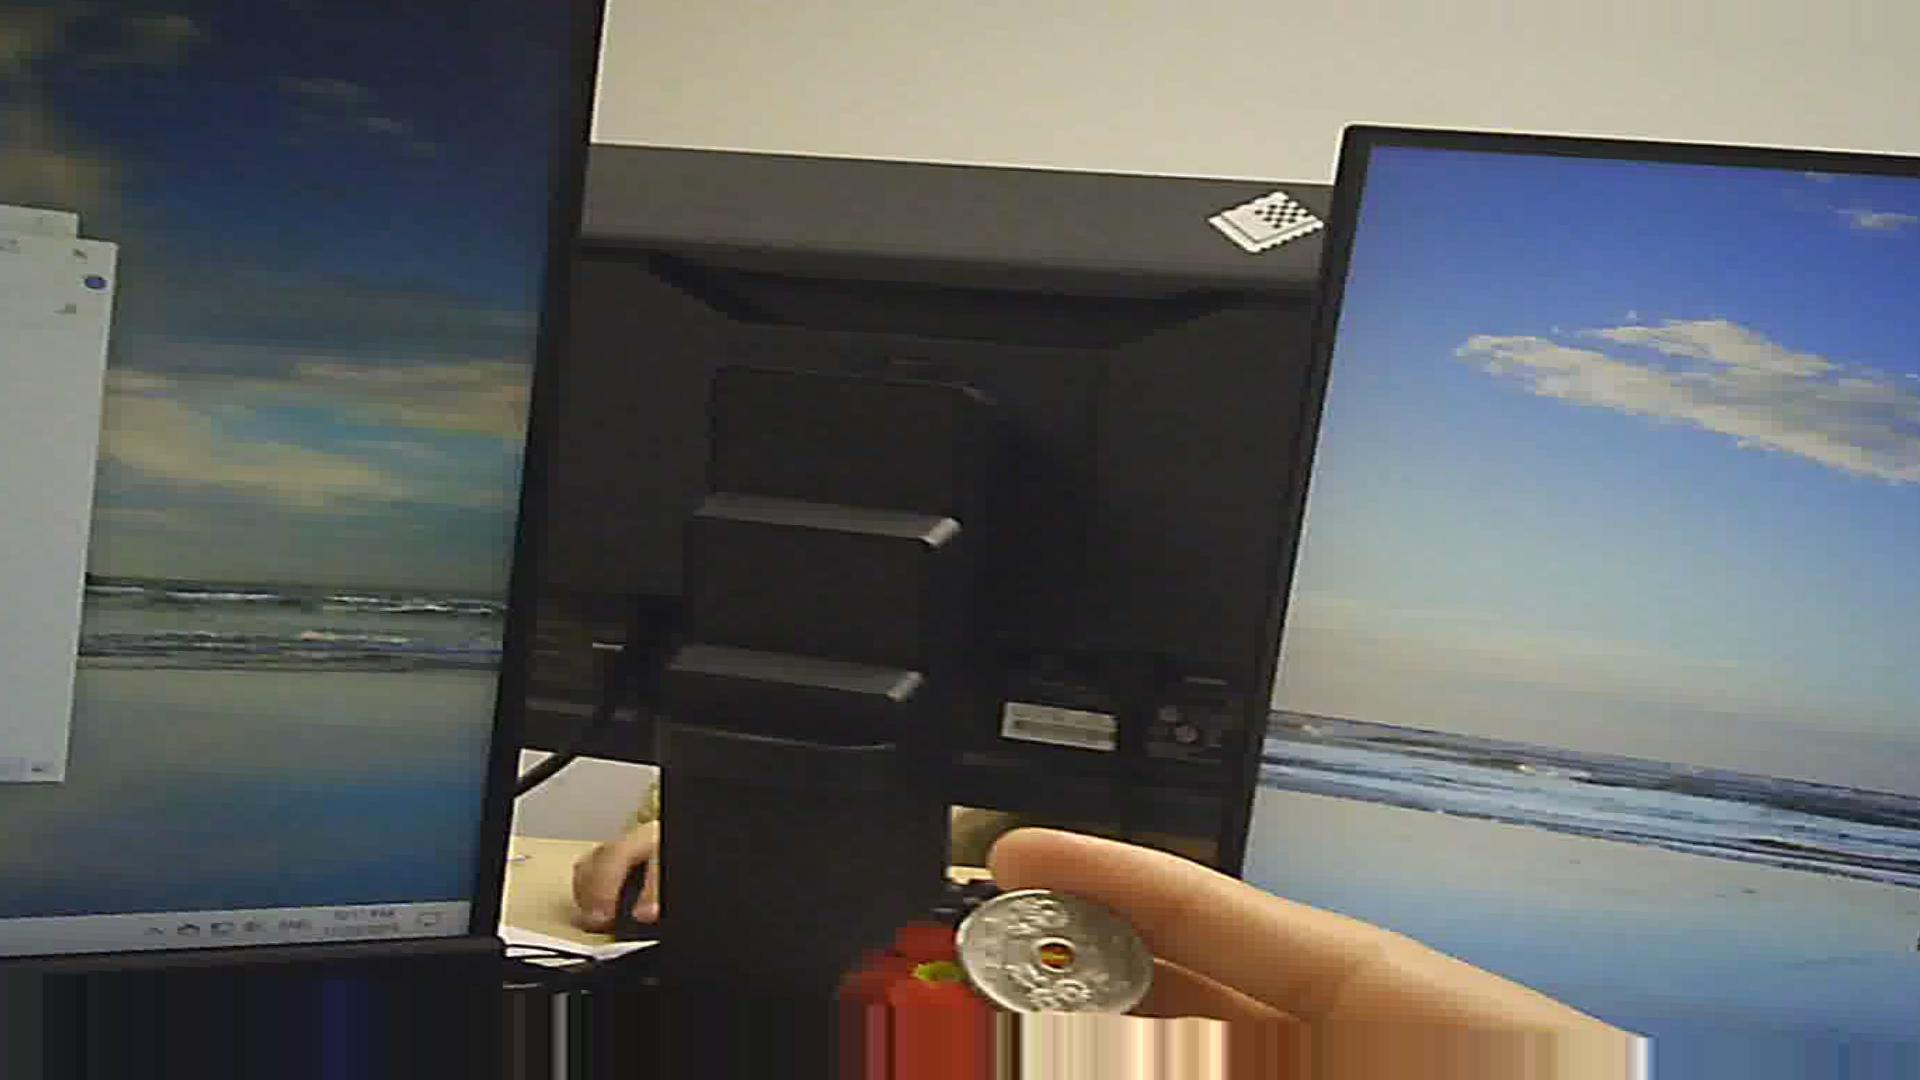50 Yen: (961, 872, 1162, 1017)
